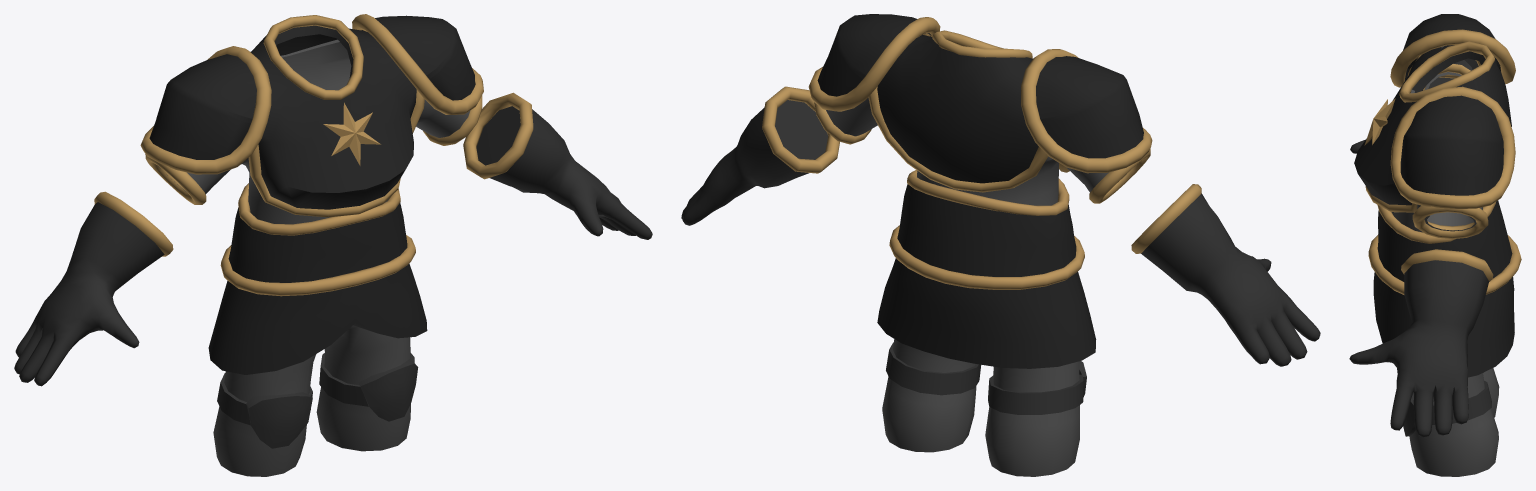
File: ust 1.fbx
The picture shows the model from 3 angles, left to right: view 1: azimuth 30°, elevation 25°; view 2: azimuth 150°, elevation 25°; view 3: azimuth 270°, elevation 25°; orthographic projection. The views are drawn at different scales.
Parts seen in each view (by area): view 1: set 1 ust; view 2: set 1 ust; view 3: set 1 ust.
Part boxes in pixels (<box>): set 1 ust: <box>14,14,652,476</box>; set 1 ust: <box>681,14,1320,476</box>; set 1 ust: <box>1349,14,1521,476</box>.
Bounding box in the file's own units: 388 × 249 × 102.
